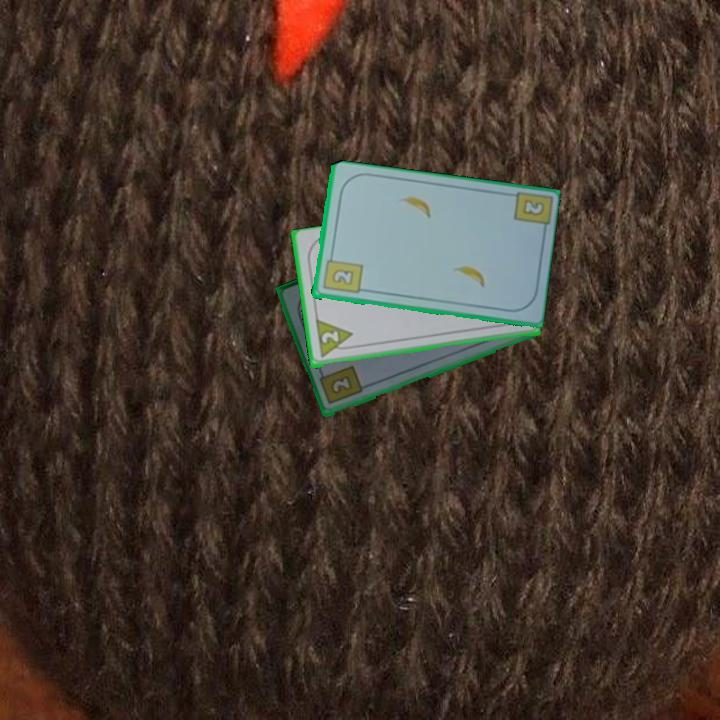2b: (316, 362, 365, 408), (319, 251, 364, 297), (519, 196, 547, 219)
2p: (312, 317, 357, 362)
